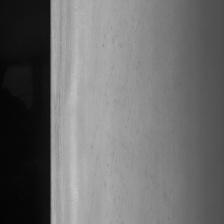silk_spot: (94, 20, 149, 192)
